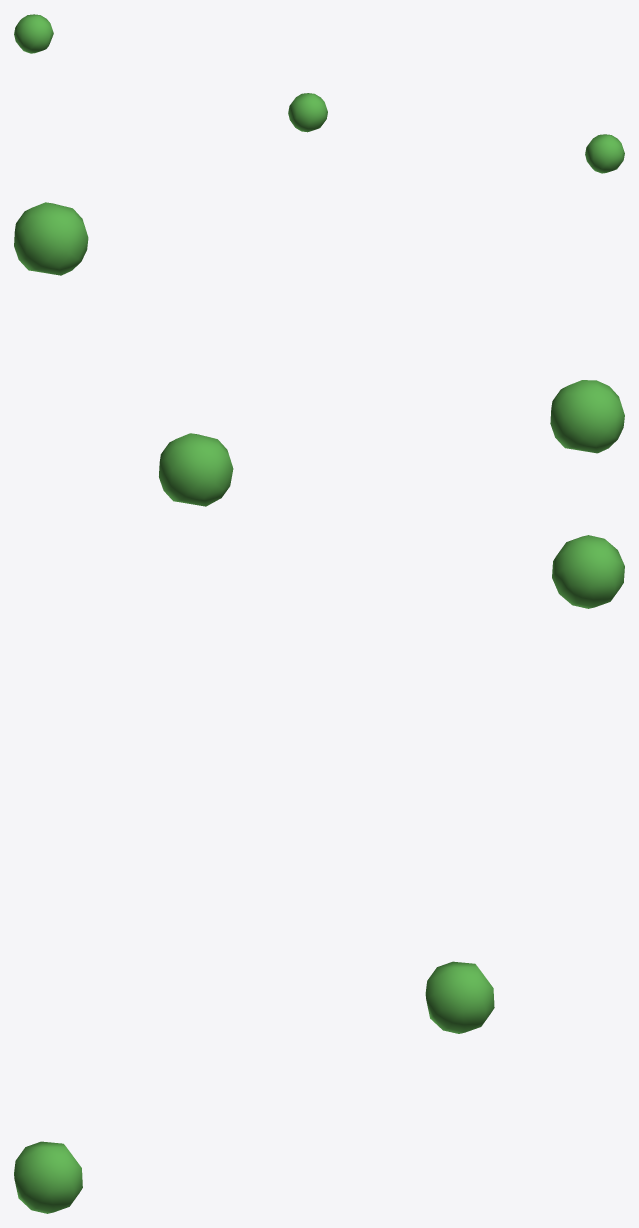
Rendered from linfatico-right-colic-nodes.glb.
3 renders of one model, top to bottom at view 1: azimuth 30°, elevation 25°; view 2: azimuth 150°, elevation 25°; view 3: azimuth 270°, elevation 25°, orthographic. The views are drawn at different scales.
Visible parts, largest first — view 1: Right colic nodes; view 2: Right colic nodes; view 3: Right colic nodes.
Part boxes in pixels (x1,y1,x2,y2): Right colic nodes: [14, 14, 624, 173]; Right colic nodes: [14, 202, 624, 506]; Right colic nodes: [14, 535, 624, 1213].
Size of the model in its own units: 0.0345 by 0.011 by 0.0214.
